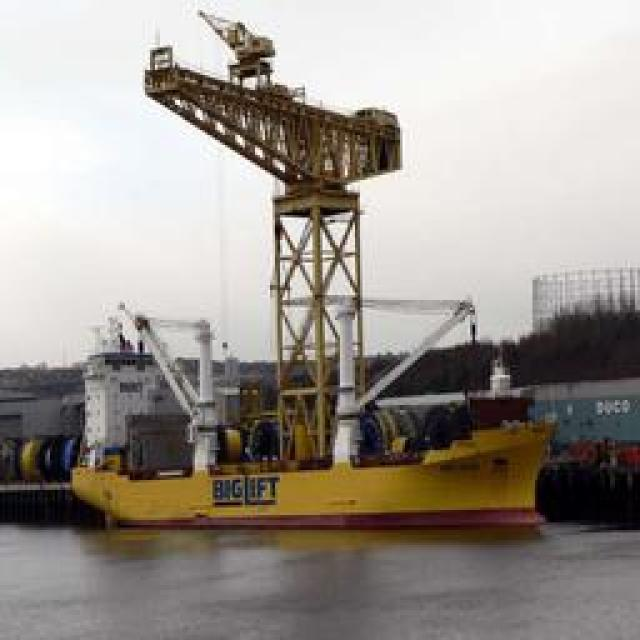CIV_Ship: (50, 282, 562, 526)
